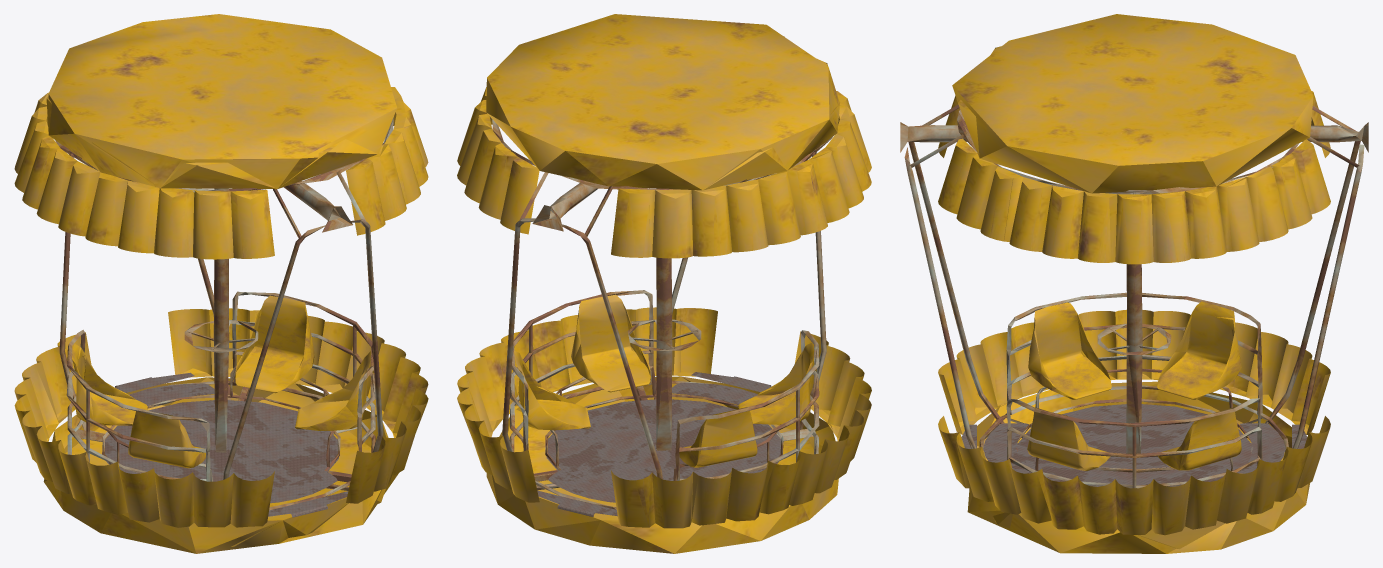
The model's file is ferris_gondola.obj.
3 views of the same model, side by side, from view 1: azimuth 30°, elevation 25°; view 2: azimuth 150°, elevation 25°; view 3: azimuth 270°, elevation 25° (orthographic).
Parts seen in each view (by area): view 1: Gondola_material, Gondola_metal_floor, Gondola_seats, Gondola_metal_construction, Gondola_metal_construction1; view 2: Gondola_material, Gondola_metal_floor, Gondola_seats, Gondola_metal_construction, Gondola_metal_construction1; view 3: Gondola_material, Gondola_seats, Gondola_metal_construction, Gondola_metal_floor, Gondola_metal_construction1.
Part boxes in pixels (left/top/right/bottom): Gondola_material: left=14, top=14, right=428, bottom=553; Gondola_metal_floor: left=105, top=372, right=348, bottom=517; Gondola_seats: left=72, top=295, right=370, bottom=468; Gondola_metal_construction: left=59, top=152, right=383, bottom=510; Gondola_metal_construction1: left=55, top=117, right=393, bottom=482; Gondola_material: left=457, top=14, right=871, bottom=553; Gondola_metal_floor: left=537, top=372, right=781, bottom=516; Gondola_seats: left=514, top=294, right=814, bottom=467; Gondola_metal_construction: left=502, top=149, right=826, bottom=509; Gondola_metal_construction1: left=492, top=36, right=833, bottom=481; Gondola_material: left=938, top=14, right=1330, bottom=553; Gondola_seats: left=1027, top=301, right=1241, bottom=470; Gondola_metal_construction: left=904, top=141, right=1364, bottom=488; Gondola_metal_floor: left=961, top=404, right=1307, bottom=486; Gondola_metal_construction1: left=900, top=104, right=1368, bottom=454.
Bounding box in the file's own units: 1.75 × 1.79 × 1.93.
5 materials, 5 textured.
